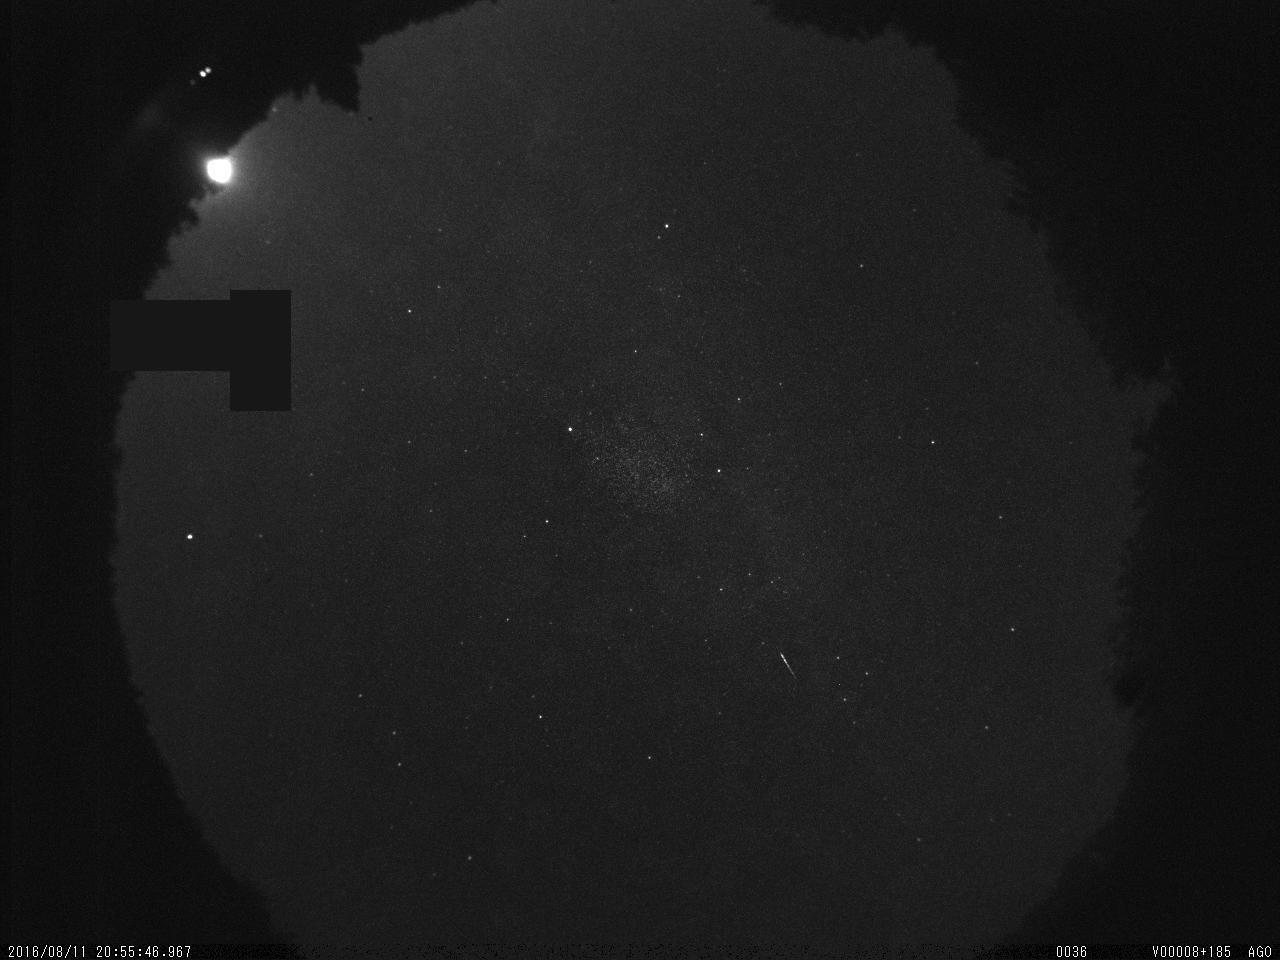meteor: (773, 646, 807, 691)
